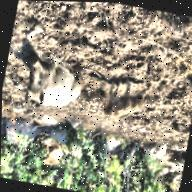boar: (14, 34, 97, 133), (98, 52, 161, 146)
